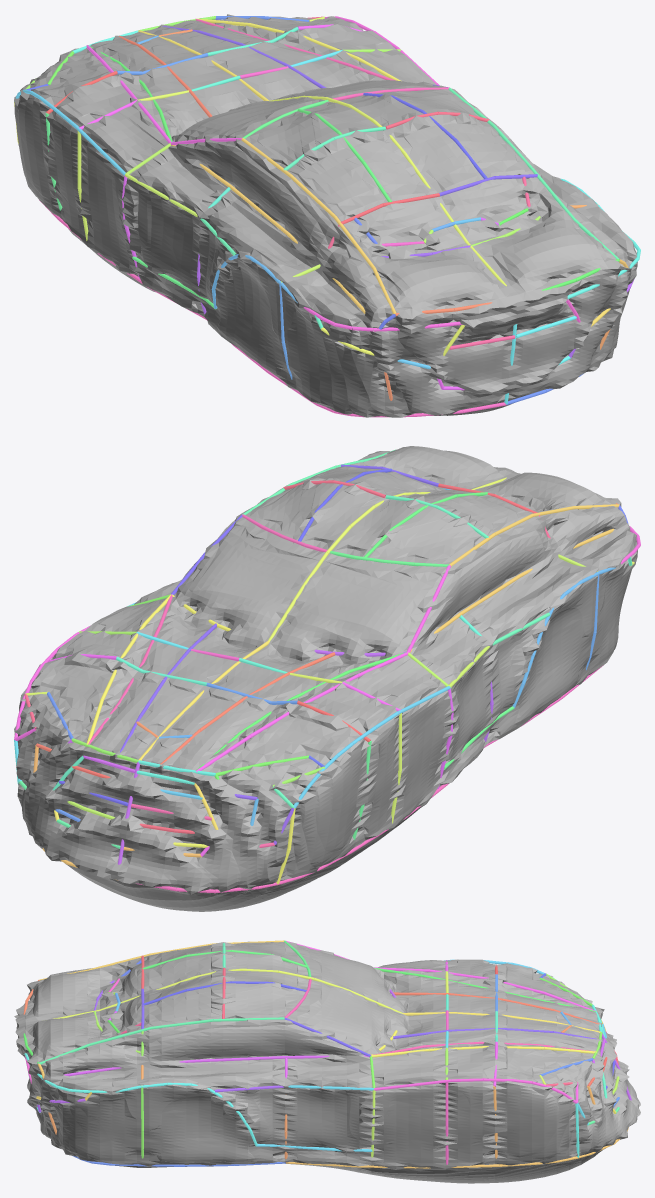
Rendered from ils_car5.gltf.
3 views of the same model, one above another, from view 1: azimuth 30°, elevation 25°; view 2: azimuth 150°, elevation 25°; view 3: azimuth 270°, elevation 25° (orthographic). The views are drawn at different scales.
Size of the model in its own units: 0.4228 by 0.3198 by 0.9019.
